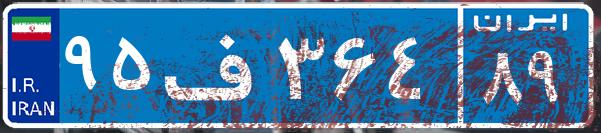3: (273, 28, 330, 110)
4: (385, 28, 445, 110)
5: (110, 28, 158, 105)
6: (330, 28, 385, 110)
8: (475, 38, 525, 113)
9: (57, 26, 110, 107), (525, 38, 570, 115)
ف: (158, 15, 273, 115)
